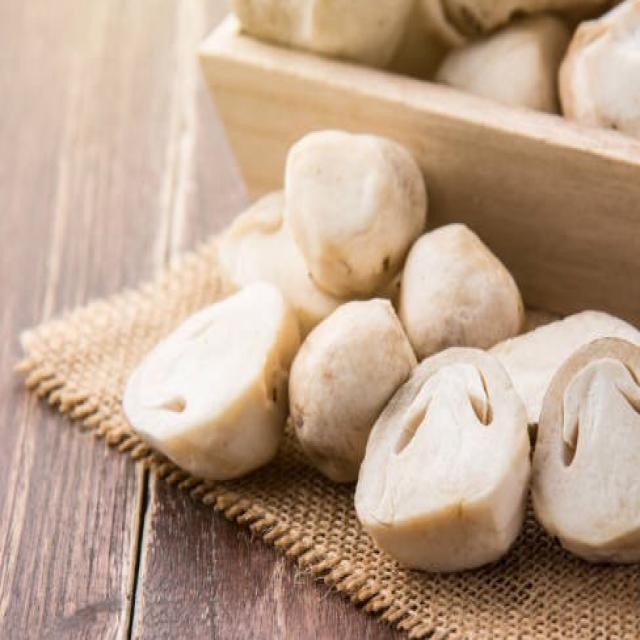Mushroom: (355, 346, 530, 564), (128, 290, 300, 471), (284, 126, 428, 302), (531, 336, 640, 556)
